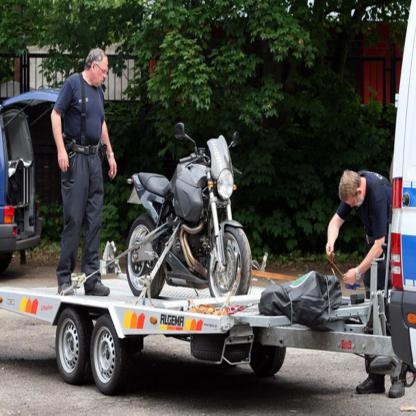face: (94, 57, 108, 88), (347, 195, 364, 209)
